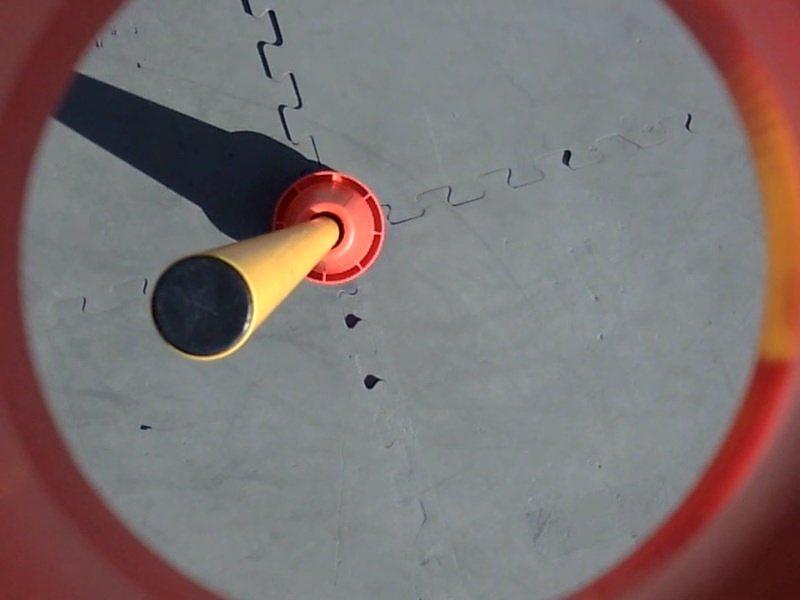tip: (148, 248, 266, 366)
